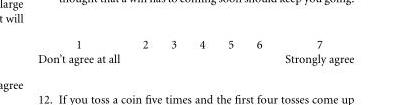table: (37, 37, 353, 65)
table column: (37, 37, 130, 65), (272, 37, 353, 65), (130, 37, 159, 65), (215, 37, 244, 65), (159, 37, 187, 65), (187, 37, 215, 65), (244, 37, 272, 65)
table row: (37, 37, 353, 51), (37, 51, 353, 65)
